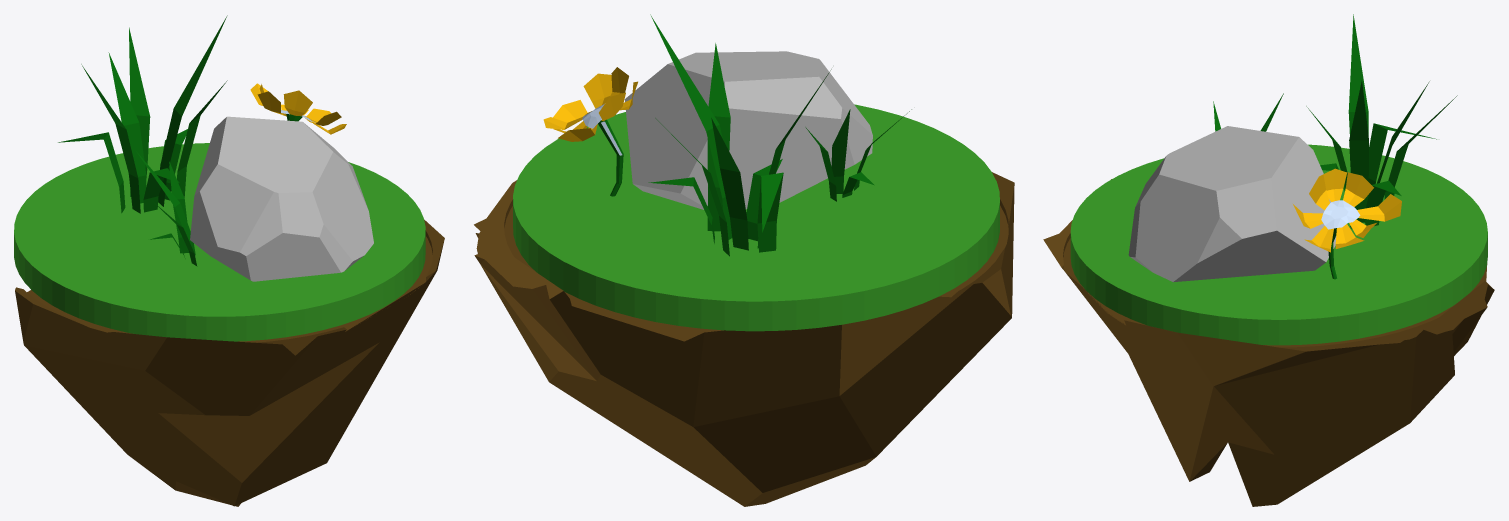
Rendered from disc1.gltf.
3 views of the same model, side by side, from view 1: azimuth 30°, elevation 25°; view 2: azimuth 150°, elevation 25°; view 3: azimuth 270°, elevation 25° (orthographic). The views are drawn at different scales.
Visible parts, largest first — view 1: ImperfectRock.002, Cylinder, Rock.006, Plane.006, flower2, Plane.001; view 2: ImperfectRock.002, Cylinder, Rock.006, Plane.006, flower2, Plane.001; view 3: ImperfectRock.002, Cylinder, Rock.006, Plane.006, flower2.
Part boxes in pixels (bbox=[...]): ImperfectRock.002: bbox=[15, 219, 444, 506]; Cylinder: bbox=[14, 143, 425, 341]; Rock.006: bbox=[190, 116, 373, 281]; Plane.006: bbox=[58, 15, 227, 213]; flower2: bbox=[250, 83, 346, 134]; Plane.001: bbox=[136, 151, 197, 266]; ImperfectRock.002: bbox=[474, 172, 1014, 506]; Cylinder: bbox=[513, 104, 999, 331]; Rock.006: bbox=[624, 51, 872, 209]; Plane.006: bbox=[648, 14, 831, 256]; flower2: bbox=[543, 67, 637, 196]; Plane.001: bbox=[805, 109, 911, 201]; ImperfectRock.002: bbox=[1043, 179, 1494, 506]; Cylinder: bbox=[1070, 144, 1487, 345]; Rock.006: bbox=[1128, 126, 1336, 282]; Plane.006: bbox=[1306, 14, 1457, 228]; flower2: bbox=[1293, 168, 1401, 279].
Bounding box in the file's own units: 1.12 × 1.19 × 1.08.
